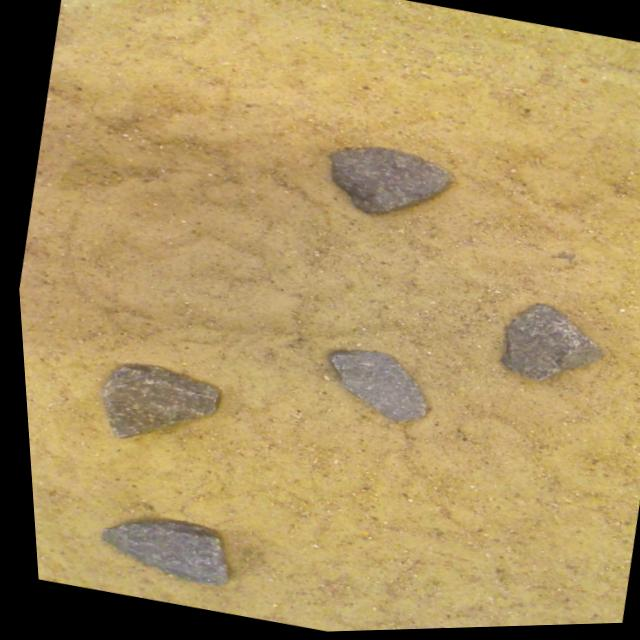rock: (97, 364, 214, 437), (95, 520, 221, 585), (328, 148, 450, 214), (496, 306, 598, 382), (325, 351, 421, 422)
